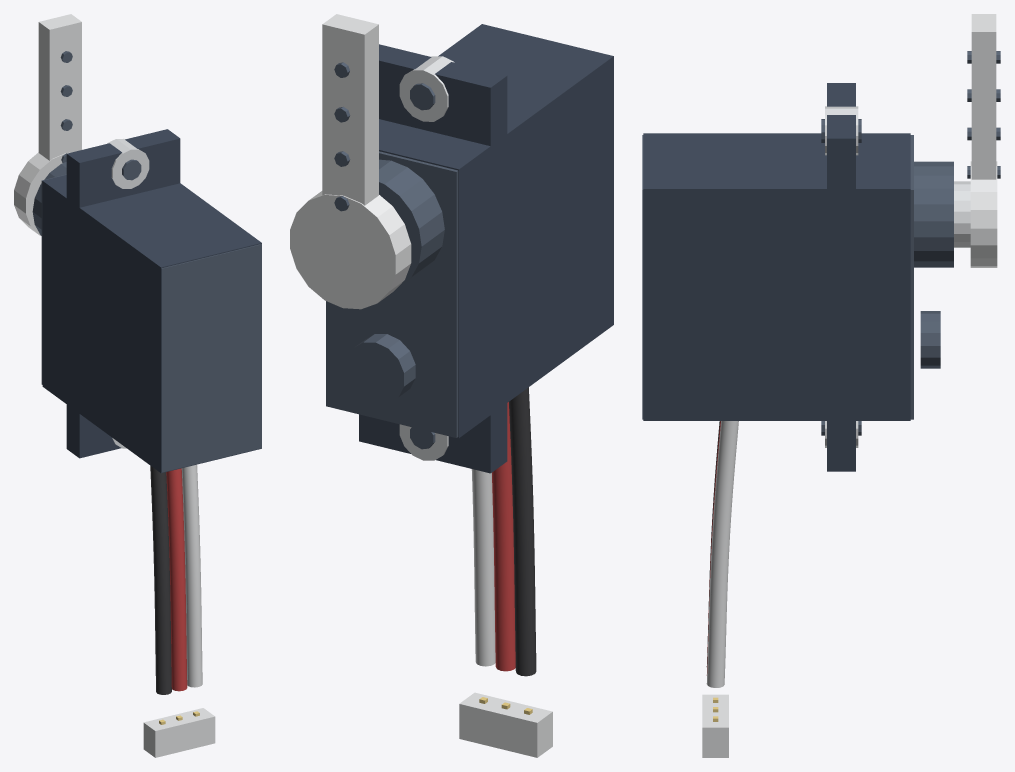
File: servo.glb
3 renders of one model, left to right at view 1: azimuth 30°, elevation 25°; view 2: azimuth 150°, elevation 25°; view 3: azimuth 270°, elevation 25°, orthographic. The views are drawn at different scales.
Parts seen in each view (by area): view 1: Servo; view 2: Servo; view 3: Servo.
Boxes of the visible parts, x1,y1,x2,y2 form: Servo: (14,14,261,757); Servo: (290,14,613,757); Servo: (642,14,1000,757).
Size of the model in its own units: 0.0118 by 0.0715 by 0.0322.
